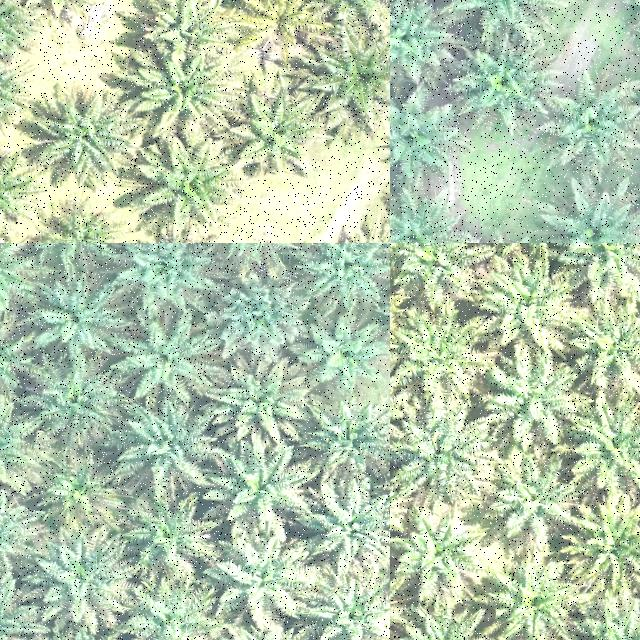Ganoderma: (246, 0, 325, 60)
